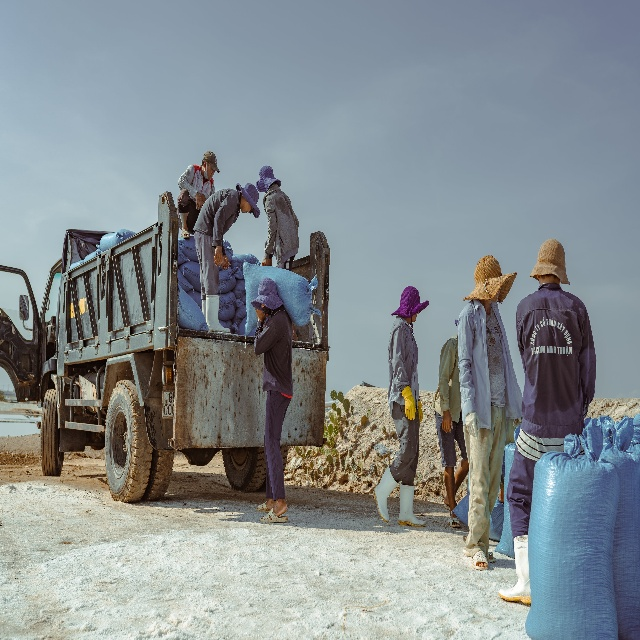Guantes: (401, 385, 416, 420), (465, 411, 480, 441), (512, 414, 523, 428), (417, 400, 423, 423)
Mascara: (205, 162, 210, 180)
Sin_guantes: (441, 410, 453, 433), (213, 244, 223, 267), (254, 307, 266, 323), (220, 254, 231, 270), (195, 192, 202, 212), (200, 192, 207, 206), (262, 256, 268, 266)
